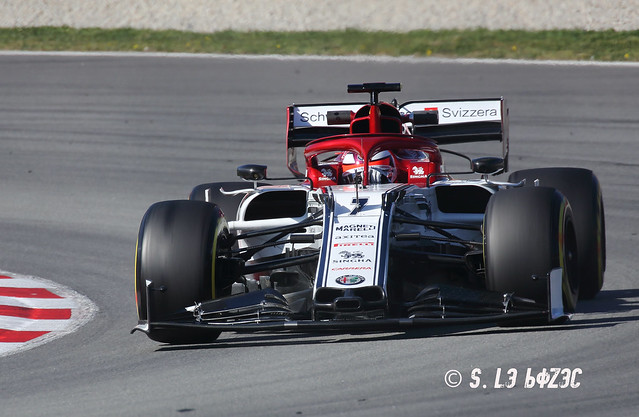F1 Car: (128, 75, 605, 348)
